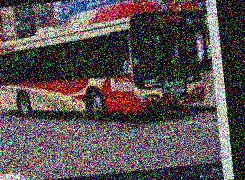bus: (0, 0, 206, 131)
